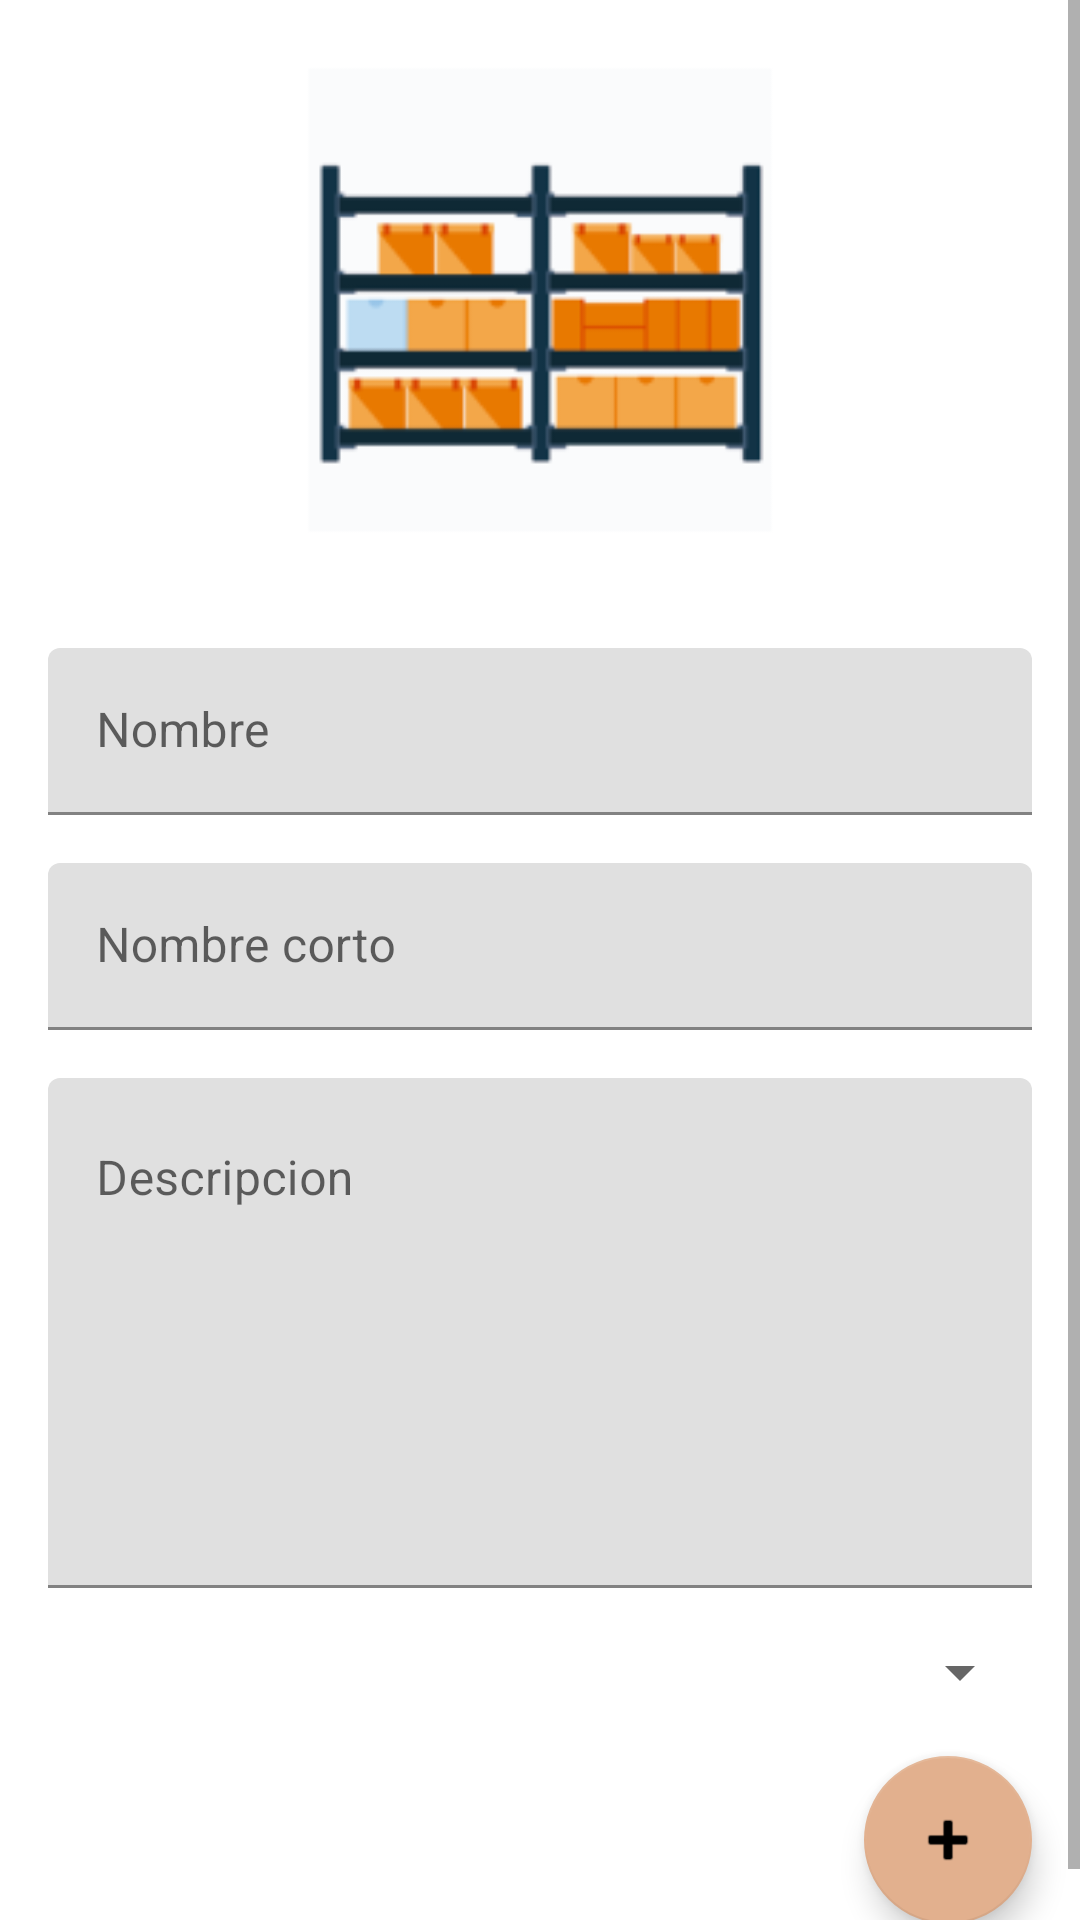

Named icons in this screenshot (1080px×1920px) and their bounding boxes, (x1, y1, x2, y2):
add: (864, 1756, 1032, 1920)
